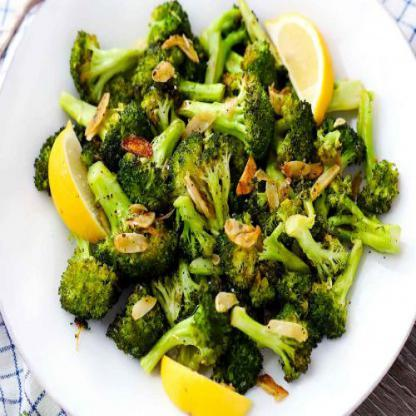broccoli: (38, 0, 404, 394)
